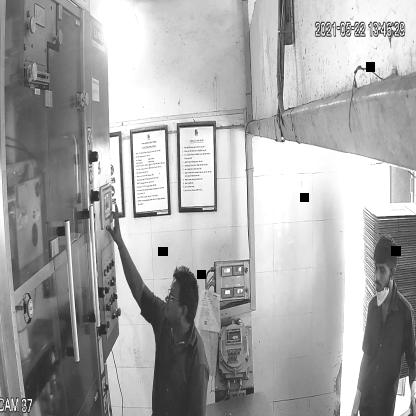goggles: (166, 287, 192, 307)
no_goggles: (371, 260, 394, 278)
